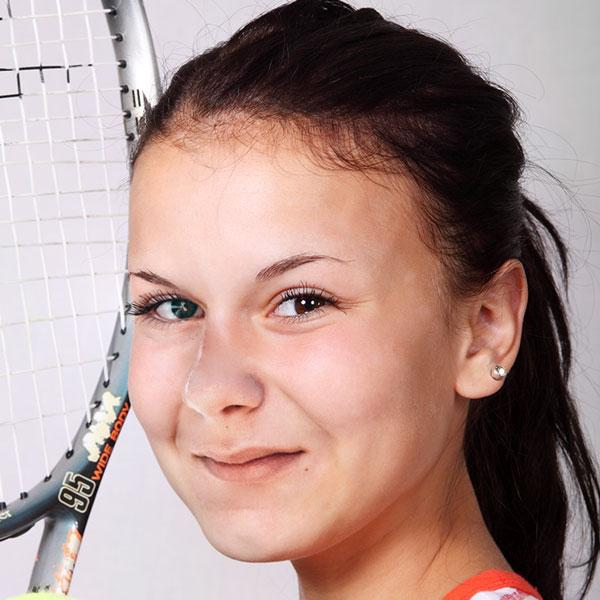Eyes: (253, 280, 355, 335), (128, 282, 212, 334)
